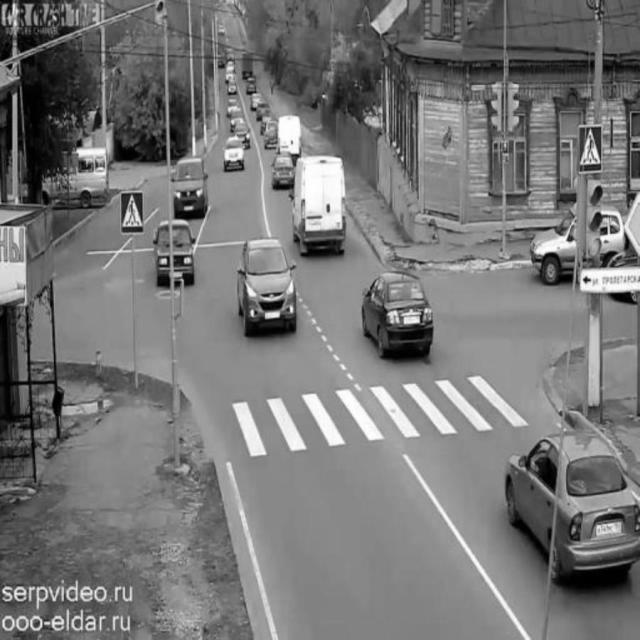vehicle: (505, 431, 639, 581), (534, 205, 628, 283), (292, 152, 350, 262), (366, 266, 432, 357), (236, 241, 297, 339), (43, 149, 111, 205), (154, 216, 196, 292), (171, 154, 208, 212), (269, 152, 296, 192), (222, 139, 248, 175), (262, 115, 280, 151), (236, 114, 253, 146), (227, 75, 243, 99), (244, 74, 260, 98)
